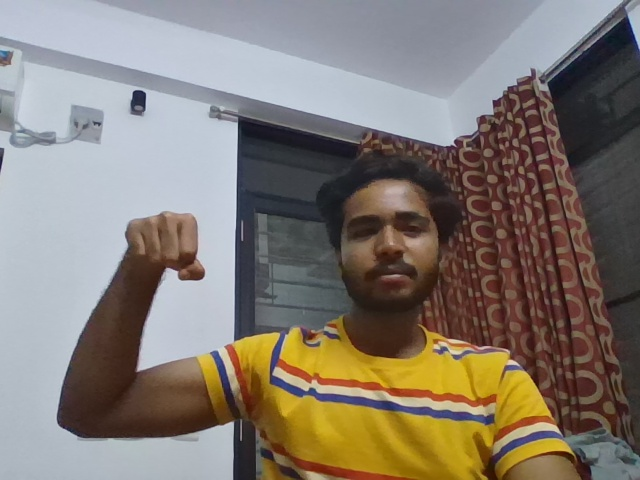Yes: (108, 194, 223, 315)
